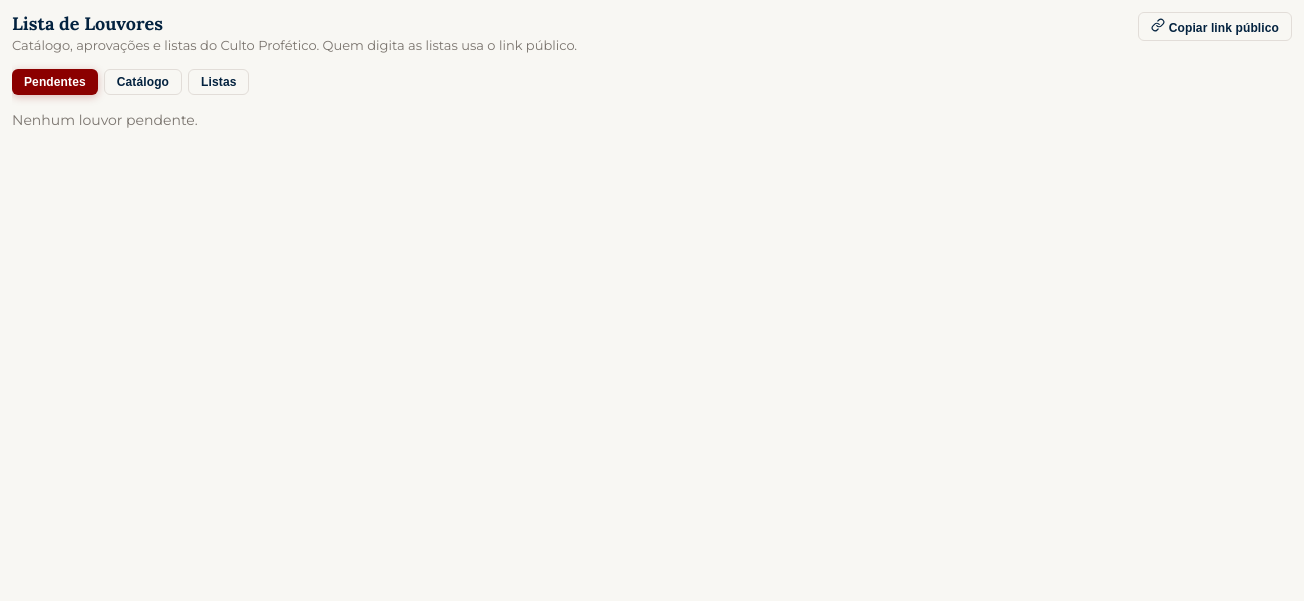
Test: Catálogo: totals and category filter › shows only the English songs when English is chosen
The width and height of the screenshot is (1304, 601).
Click the button "Catálogo": (143, 82) [104,69,182,95]
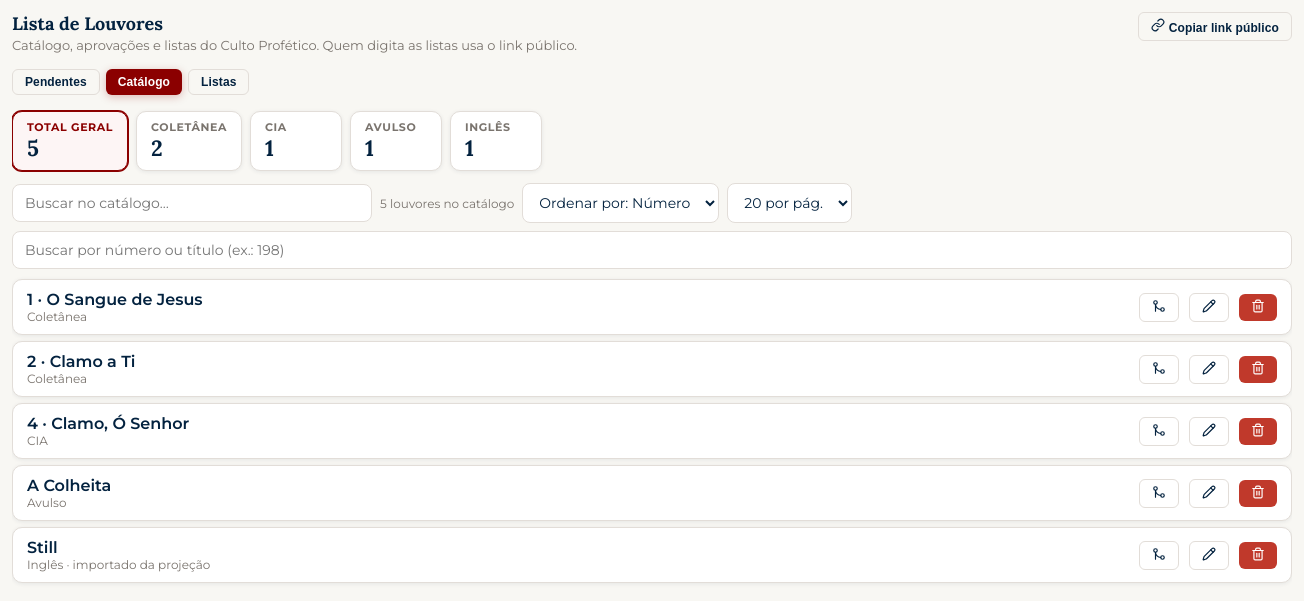
Click the button "Inglês 1": (496, 141) [450,111,542,171]
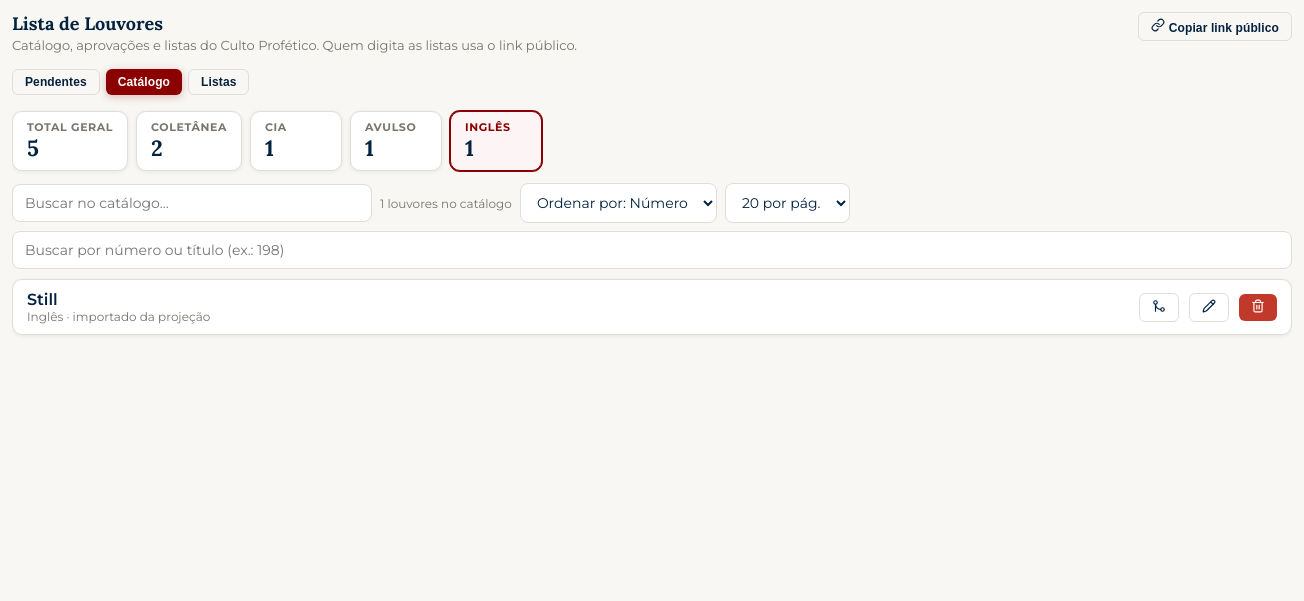
Expected: the text "Still" is shown, [27,290,58,309]
Expected: the text "A Colheita" is gone
